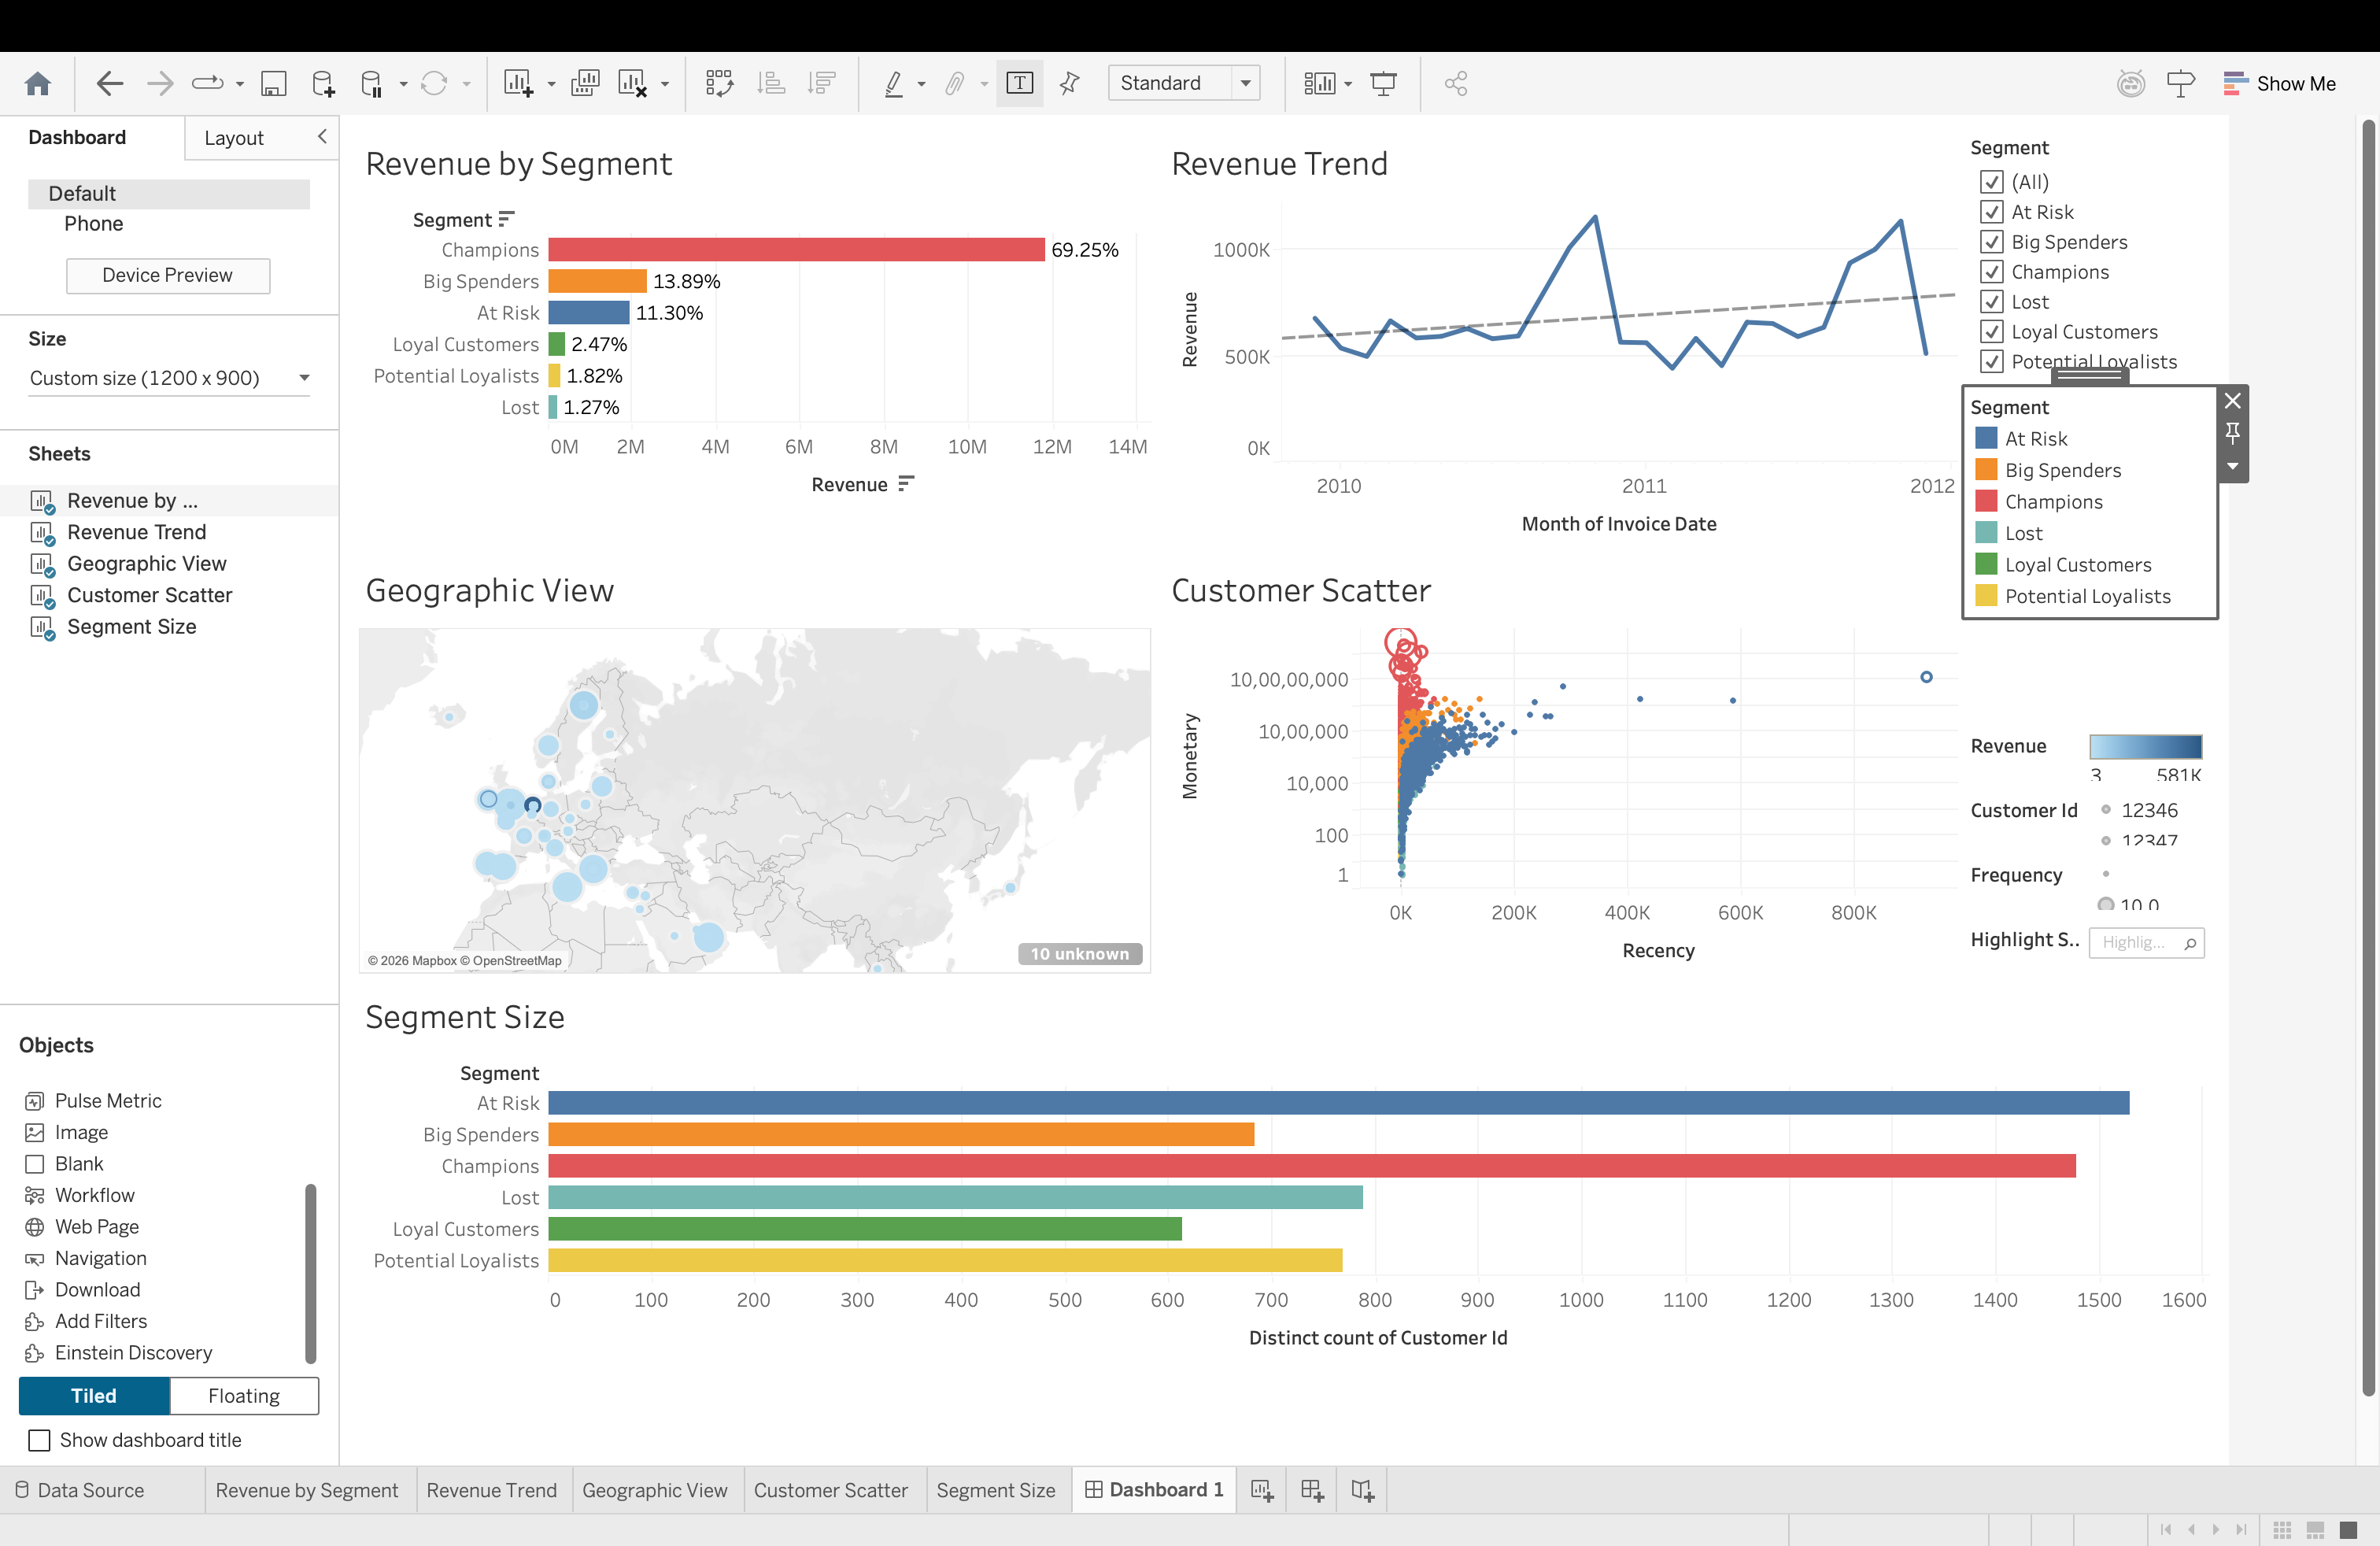

What the dashboard file says about the page in this screenshot:
{"tool":"tableau","page":{"name":"Dashboard 1","canvas":[1200,900],"ordinal":0},"visuals":[{"type":"worksheet","title":"Revenue by Segment","mark":"Automatic","rows":["segment"],"cols":["revenue"],"box":[8,8,512,271]},{"type":"worksheet","title":"Revenue Trend","mark":"Line","rows":["revenue"],"cols":["invoice_date"],"box":[520,8,512,271]},{"type":"filter","title":"Revenue by Segment","param":"[federated.0nk1twl0816cld1f4wz0q12zb0rk].[none:segment:nk]","box":[1032,8,160,165]},{"type":"legend","title":"Revenue by Segment","param":"[federated.0nk1twl0816cld1f4wz0q12zb0rk].[none:segment:nk]","box":[1032,173,160,146]},{"type":"worksheet","title":"Geographic View","mark":"Automatic","box":[8,279,512,271]},{"type":"worksheet","title":"Customer Scatter","mark":"Automatic","rows":["monetary"],"cols":["recency"],"box":[520,279,512,271]},{"type":"legend","title":"Geographic View","param":"[federated.0nk1twl0816cld1f4wz0q12zb0rk].[sum:revenue:qk]","box":[1032,385.7,160,41.1]},{"type":"legend","title":"Geographic View","param":"[federated.0nk1twl0816cld1f4wz0q12zb0rk].[none:customer_id:ok]","box":[1032,426.8,160,41.1]},{"type":"legend","title":"Customer Scatter","param":"[federated.0nk1twl0816cld1f4wz0q12zb0rk].[sum:frequency:qk]","box":[1032,467.8,160,41.1]},{"type":"highlighter","title":"Segment Size","param":"[federated.0nk1twl0816cld1f4wz0q12zb0rk].[none:segment:nk]","box":[1032,508.9,160,41.1]},{"type":"worksheet","title":"Segment Size","mark":"Automatic","rows":["segment"],"cols":["customer_id"],"box":[8,550,1184,342]}]}

Visuals, with their boxes on the page's 1200x900 design canvas (x1, y1, x2, y2). These are canvas units, not pixel positions in the 2380x1546 screenshot, which may show the page scaled, cropped or inside an application window:
"Revenue by Segment" worksheet: region(8, 8, 520, 279)
"Revenue Trend" worksheet (Line marks): region(520, 8, 1032, 279)
"Revenue by Segment" filter: region(1032, 8, 1192, 173)
"Revenue by Segment" legend: region(1032, 173, 1192, 319)
"Geographic View" worksheet: region(8, 279, 520, 550)
"Customer Scatter" worksheet: region(520, 279, 1032, 550)
"Geographic View" legend: region(1032, 386, 1192, 427)
"Geographic View" legend: region(1032, 427, 1192, 468)
"Customer Scatter" legend: region(1032, 468, 1192, 509)
"Segment Size" highlighter: region(1032, 509, 1192, 550)
"Segment Size" worksheet: region(8, 550, 1192, 892)
